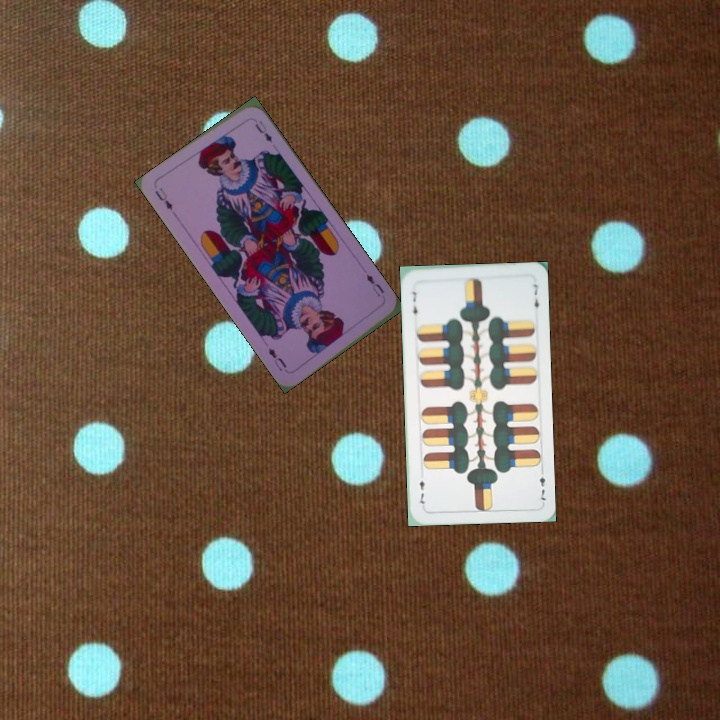E7: (536, 465, 548, 505), (407, 287, 420, 321)
EU: (362, 270, 387, 299), (151, 183, 175, 213)
